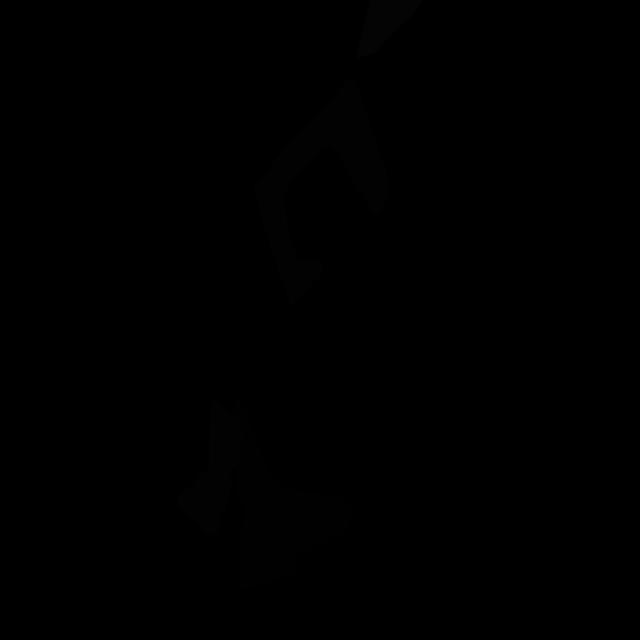cardboard: (253, 77, 389, 305), (176, 399, 244, 534)
rigid_plastic: (232, 397, 351, 590)
soft_plastic: (356, 0, 424, 58)
